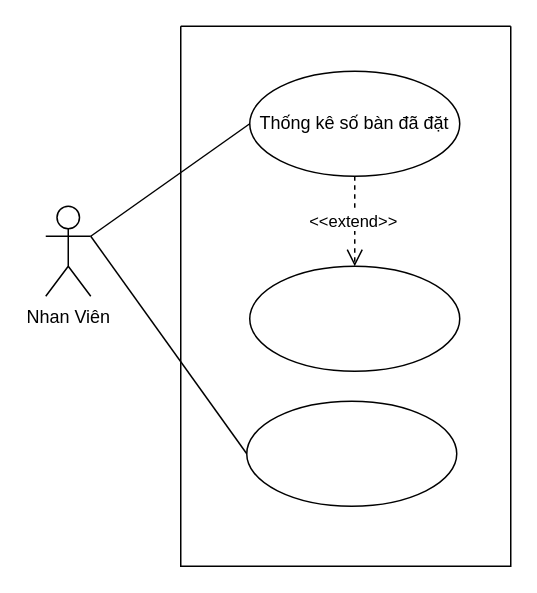
Some shapes in this 537 by 593 pixel diagram are drawn without their labels. Here are the shapes that lost their labels. From the top down, the centre of each, then its label:
the point at 354,318: Thống kê khách quay trở lại
the point at 351,453: Thống kê tấn suất các món
